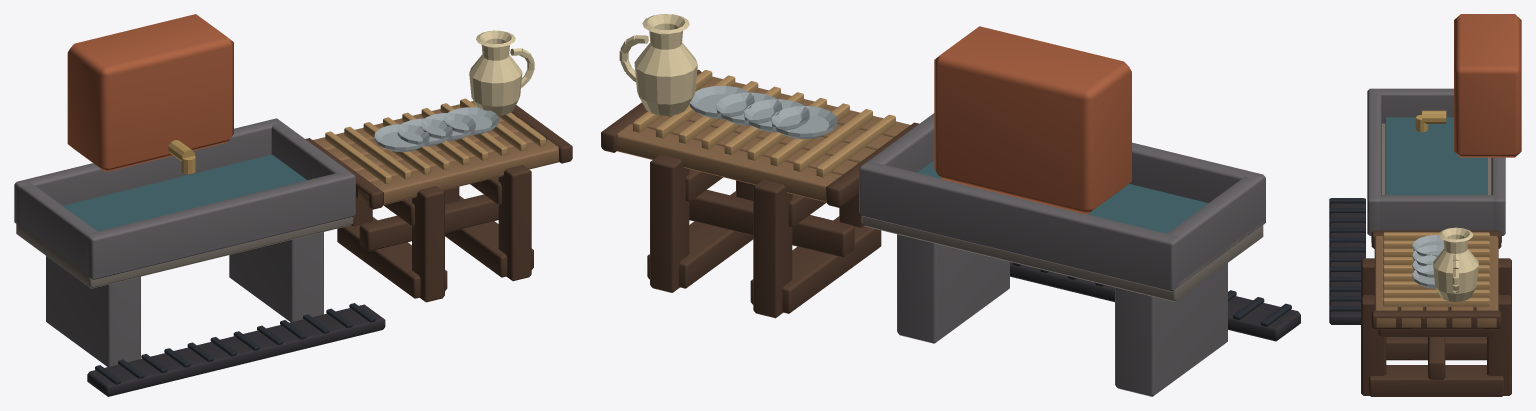
File: feast_wash.glb
The picture shows the model from 3 angles, left to right: view 1: azimuth 30°, elevation 25°; view 2: azimuth 150°, elevation 25°; view 3: azimuth 270°, elevation 25°; orthographic projection. The views are drawn at different scales.
Parts seen in each view (by area): view 1: feast_wash; view 2: feast_wash; view 3: feast_wash.
Boxes of the visible parts, x1,y1,x2,y2 form: feast_wash: [14, 14, 572, 396]; feast_wash: [601, 14, 1300, 396]; feast_wash: [1329, 14, 1521, 396].
Bounding box in the file's own units: 5.18 × 2.57 × 1.99.
